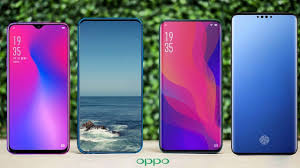oppo: (157, 16, 226, 154), (5, 14, 74, 152), (75, 14, 144, 152), (233, 12, 300, 154)
